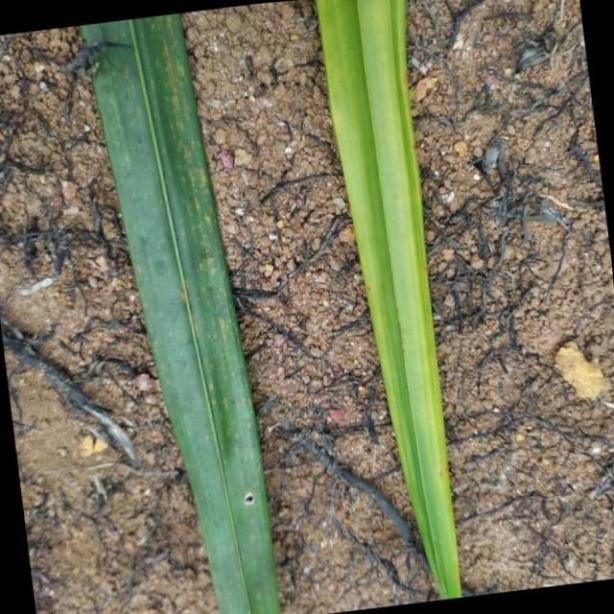nitrogen: (309, 0, 462, 614)
